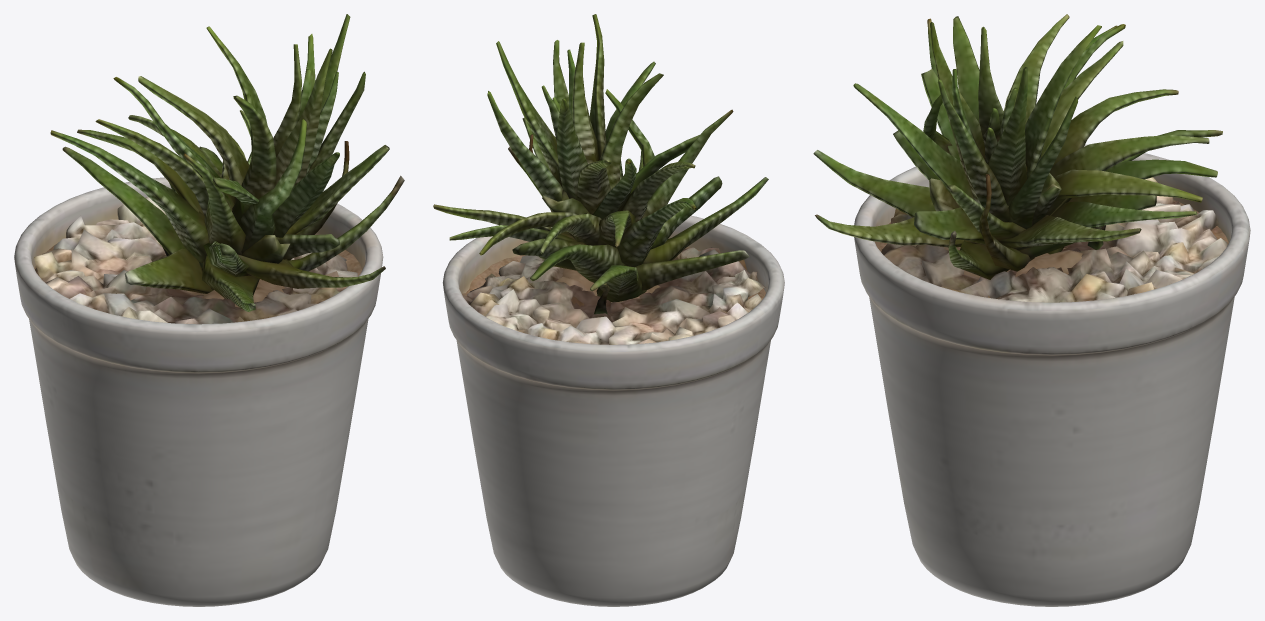
File: potted_plant_04.glb
The picture shows the model from 3 angles, left to right: view 1: azimuth 30°, elevation 25°; view 2: azimuth 150°, elevation 25°; view 3: azimuth 270°, elevation 25°; orthographic projection. The views are drawn at different scales.
Parts seen in each view (by area): view 1: potted_plant_04_pot, potted_plant_04_plant, potted_plant_04_ground, potted_plant_04_dirt; view 2: potted_plant_04_pot, potted_plant_04_plant, potted_plant_04_ground, potted_plant_04_dirt; view 3: potted_plant_04_pot, potted_plant_04_plant, potted_plant_04_ground, potted_plant_04_dirt.
Boxes of the visible parts, x1,y1,x2,y2 form: potted_plant_04_pot: (14,177,383,606); potted_plant_04_plant: (50,14,404,311); potted_plant_04_ground: (34,197,358,324); potted_plant_04_dirt: (34,238,362,307); potted_plant_04_pot: (442,215,784,606); potted_plant_04_plant: (433,14,768,314); potted_plant_04_ground: (462,247,765,344); potted_plant_04_dirt: (462,247,765,306); potted_plant_04_pot: (854,144,1250,606); potted_plant_04_plant: (813,14,1222,279); potted_plant_04_ground: (881,177,1227,302); potted_plant_04_dirt: (875,200,1228,297).
Bounding box in the file's own units: 0.1679 × 0.2675 × 0.1848.
1 material, 1 textured.
